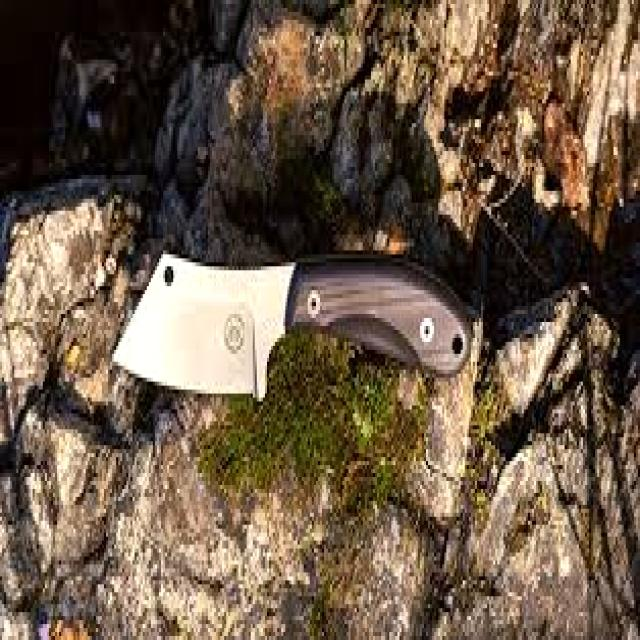cleaver: (112, 249, 474, 403)
